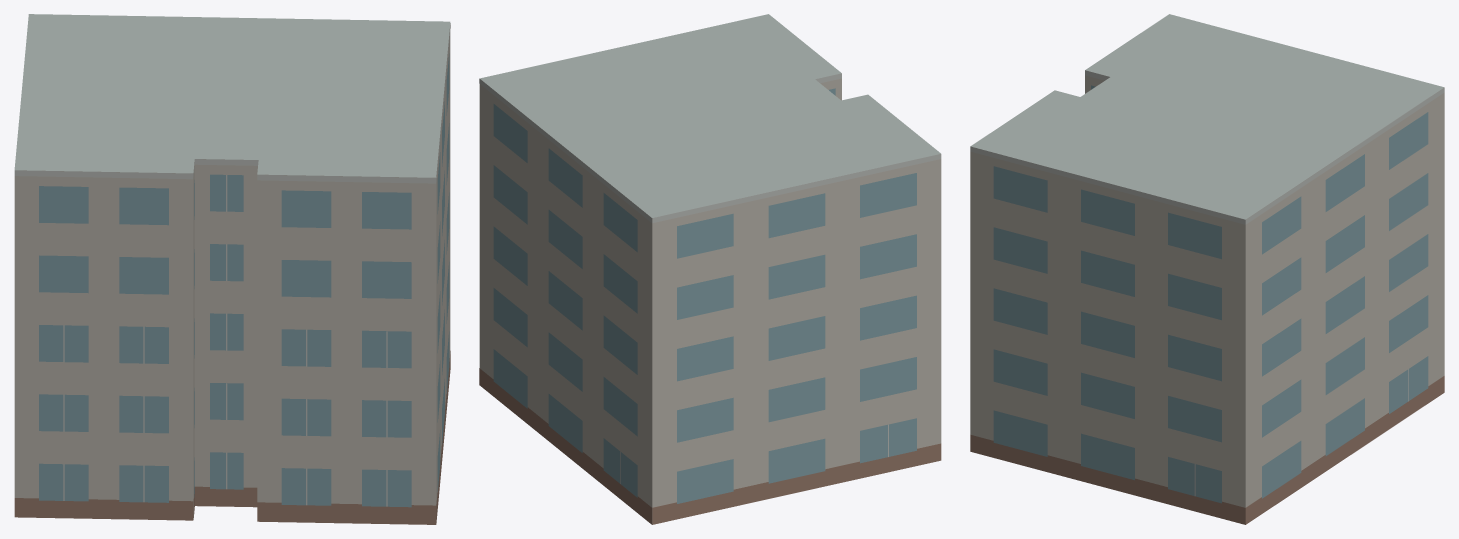
File: survey-upis-33021086.glb
3 renders of one model, left to right at view 1: azimuth 30°, elevation 25°; view 2: azimuth 150°, elevation 25°; view 3: azimuth 270°, elevation 25°, orthographic. The views are drawn at different scales.
Parts seen in each view (by area): view 1: survey-upis-33021086.tmp; view 2: survey-upis-33021086.tmp; view 3: survey-upis-33021086.tmp.
Part boxes in pixels (x1,y1,x2,y2): survey-upis-33021086.tmp: (14, 14, 450, 524); survey-upis-33021086.tmp: (479, 14, 941, 524); survey-upis-33021086.tmp: (970, 14, 1444, 524).
Bounding box in the file's own units: 20.96 × 14.5 × 20.43.
